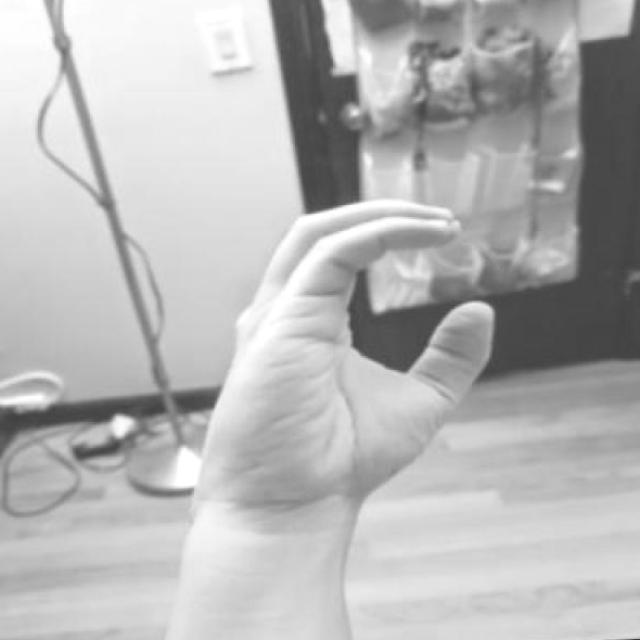C: (200, 184, 505, 537)
